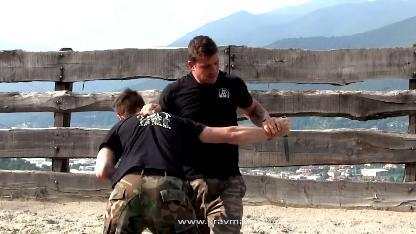knife: (277, 113, 293, 165)
